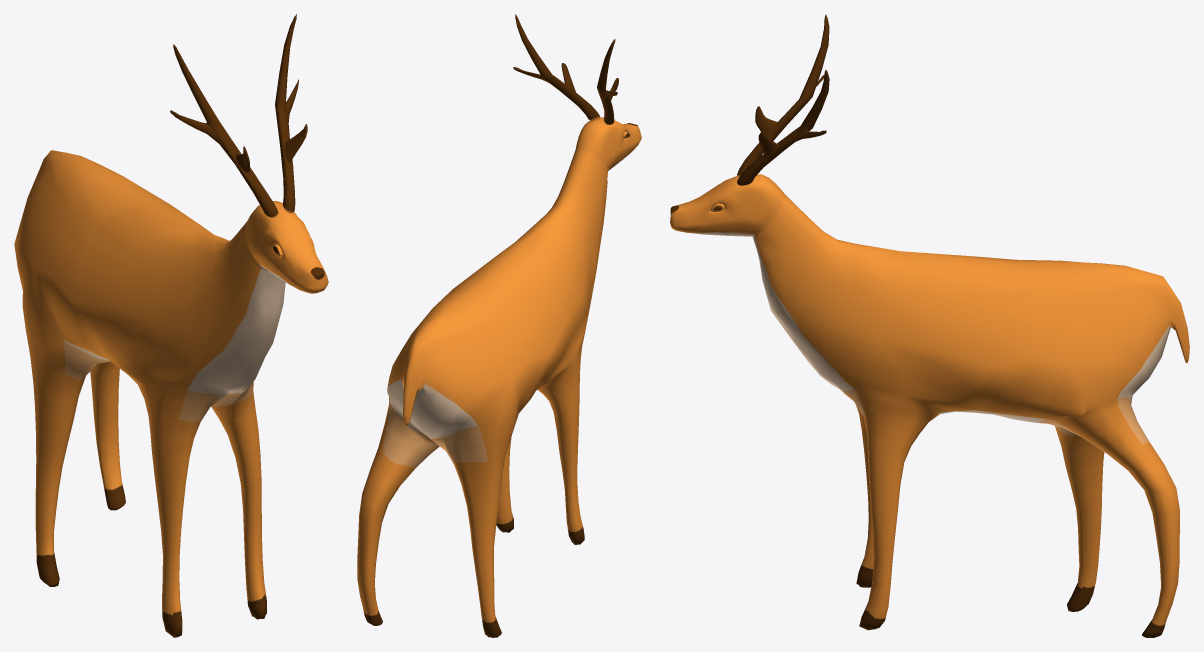
File: deer_smooth3.fbx
3 views of the same model, side by side, from view 1: azimuth 30°, elevation 25°; view 2: azimuth 150°, elevation 25°; view 3: azimuth 270°, elevation 25° (orthographic). The views are drawn at different scales.
Parts seen in each view (by area): view 1: pCube2; view 2: pCube2; view 3: pCube2.
Part boxes in pixels (<box>): pCube2: <box>14,14,328,637</box>; pCube2: <box>357,14,641,637</box>; pCube2: <box>670,14,1189,637</box>.
Bounding box in the file's own units: 7.43 × 31.35 × 25.06.
